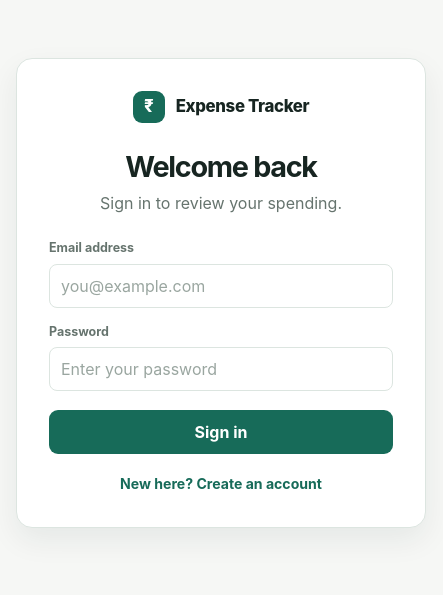
Test case: Login registration flow › submits a new account and returns to sign in after registration
Click the button "New here? Create an account" at (221, 484), box [49,472,393,495]
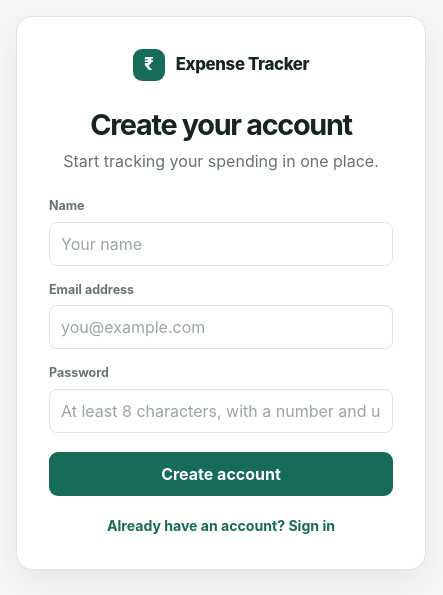
Type "Asha Kumar" into the field labelled "Name" at (221, 244), box [49,222,393,266]
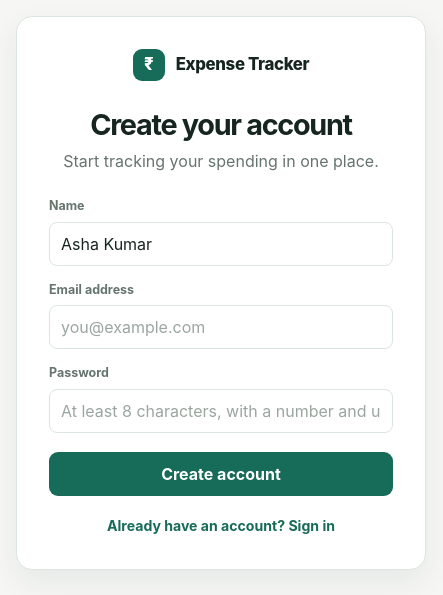
Type "asha@example.com" into the field labelled "Email address" at (221, 327), box [49,305,393,349]
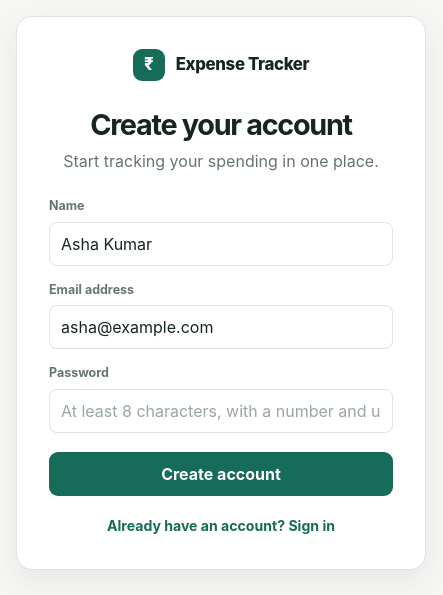
Type "Password1" into the password field labelled "Password" at (221, 411), box [49,389,393,433]
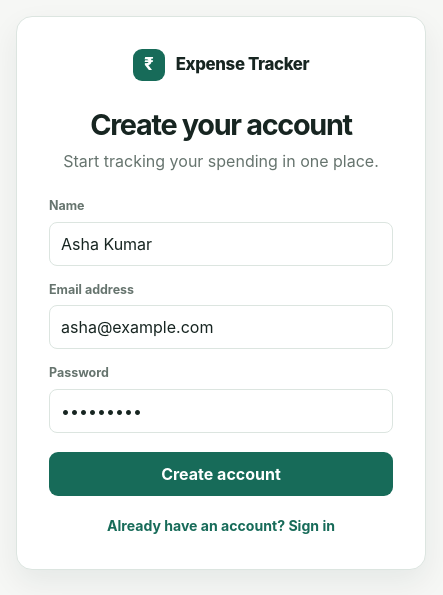
Click the button "Create account" at (221, 474), box [49,452,393,496]
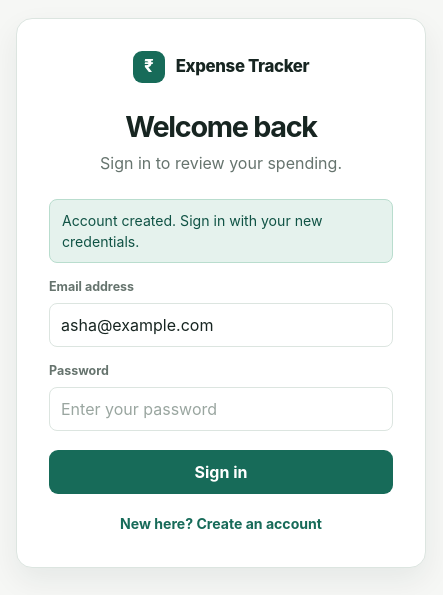
Result: the text "Account created. Sign in with your new credentials." is shown at [49,199,393,263]
Result: the button "Sign in" is shown at [49,450,393,494]
